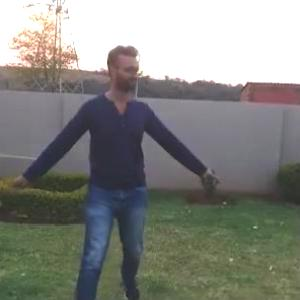land: (0, 16, 243, 299)
